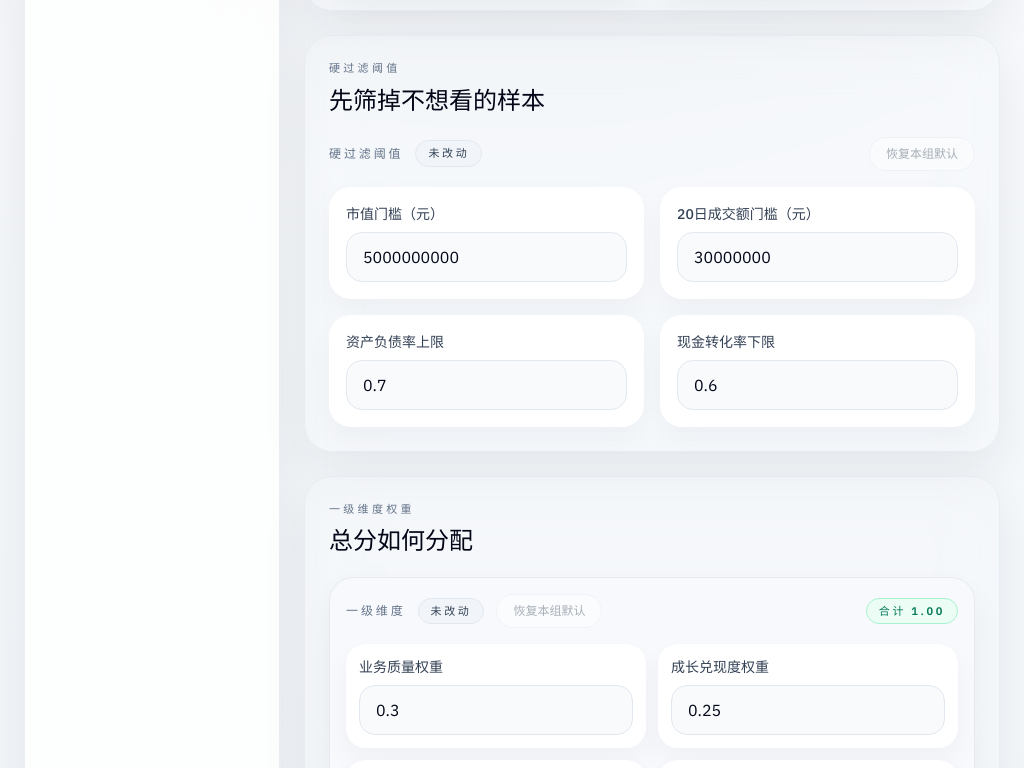
Scenario: LabPage › restores valid submit state after correcting invalid value
(page scrolled)
Replace the text in the number field labelled "现金转化率下限" with "1.2" at (818, 384), box 677,360 -> 958,410
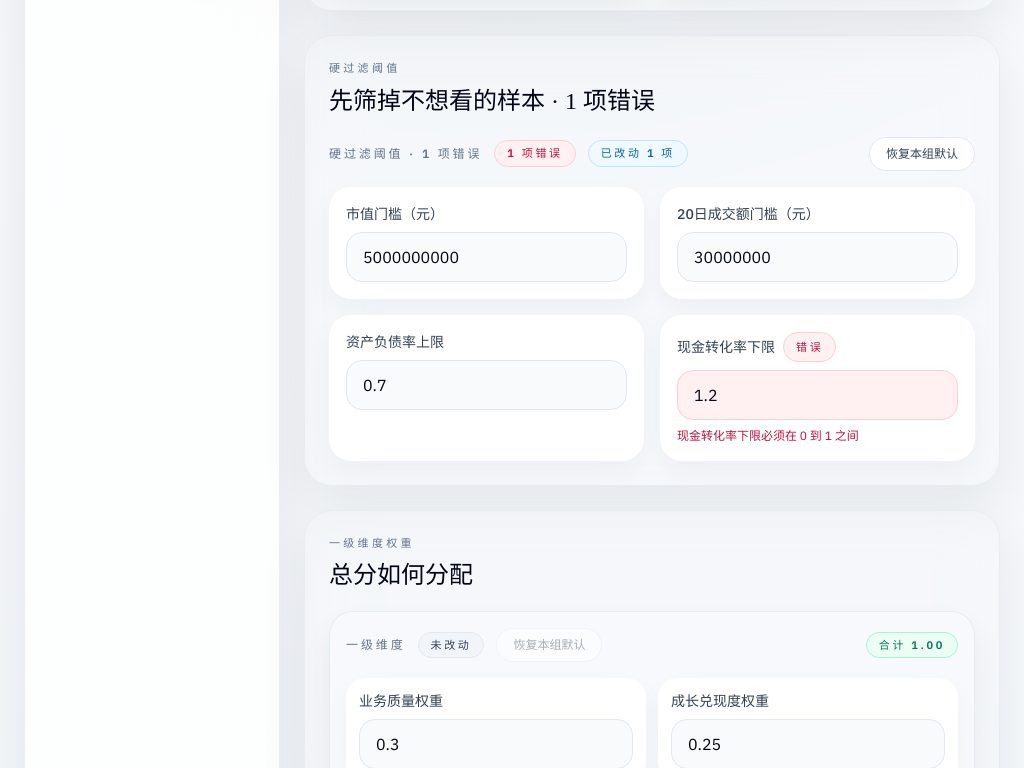
Replace the text in the number field labelled "现金转化率下限 错误 现金转化率下限必须在 0 到 1 之间" with "0.75" at (818, 394), box 677,370 -> 958,420
(page scrolled)
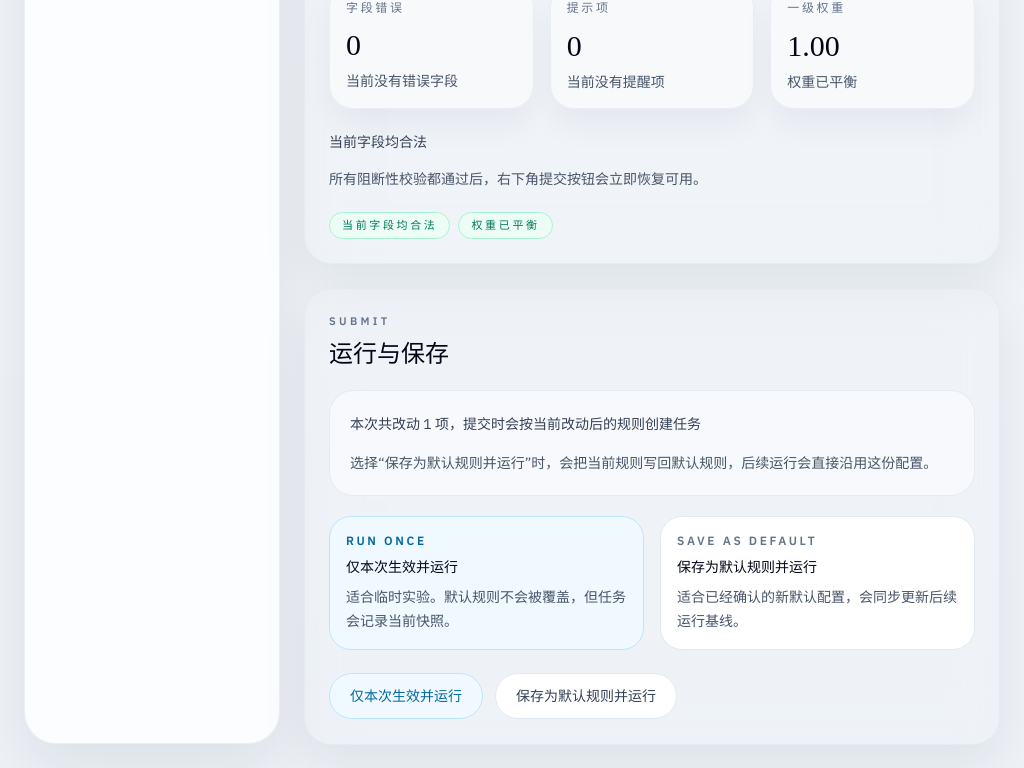
Expected: the text "现金转化率下限必须在 0 到 1 之间" is gone
Expected: the button "仅本次生效并运行" is enabled, 329,673 -> 483,719
